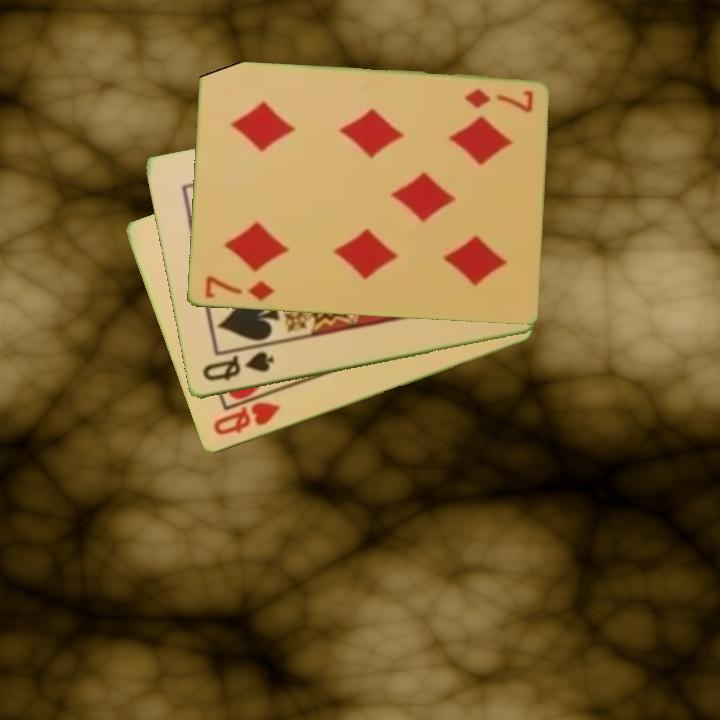7d: (201, 272, 276, 304), (461, 85, 535, 115)
Qh: (209, 398, 283, 439)
Qs: (198, 348, 277, 384)
